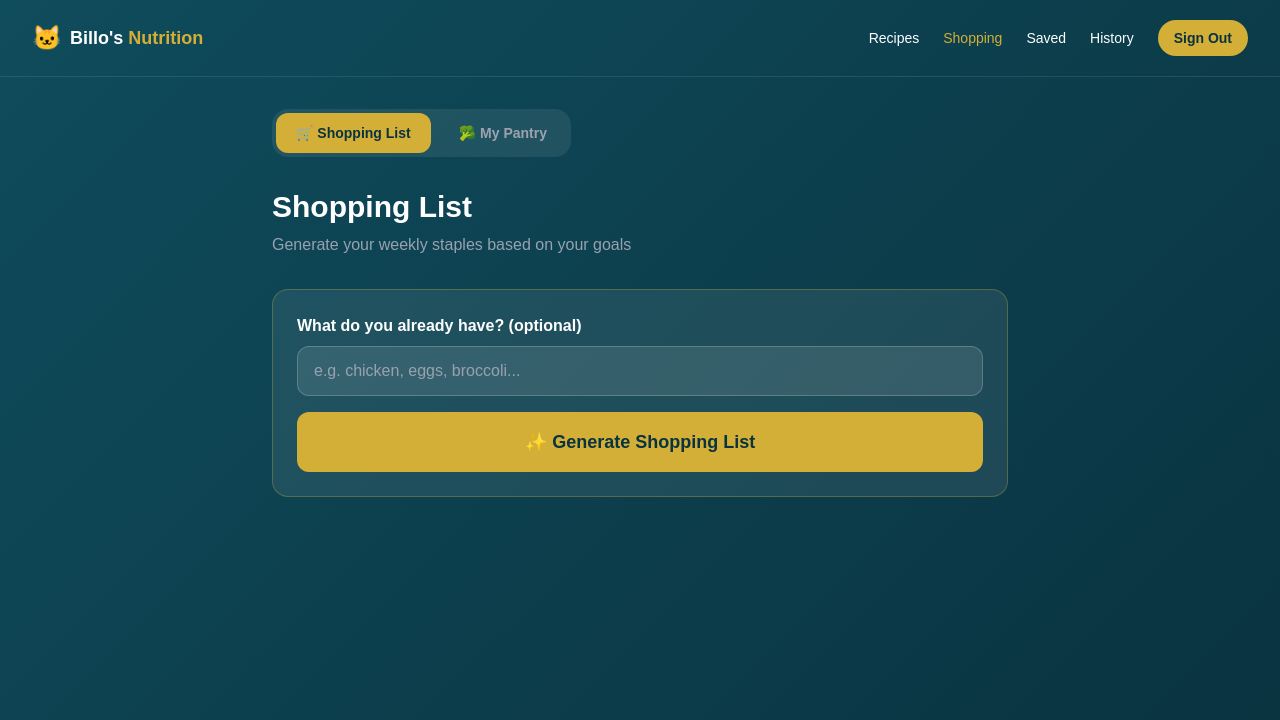
ShoppingPage — Shopping tab › toggles a shopping item as checked
Click the button "✨ Generate Shopping List".
click(640, 442)  # box x1=297 y1=412 x2=983 y2=472
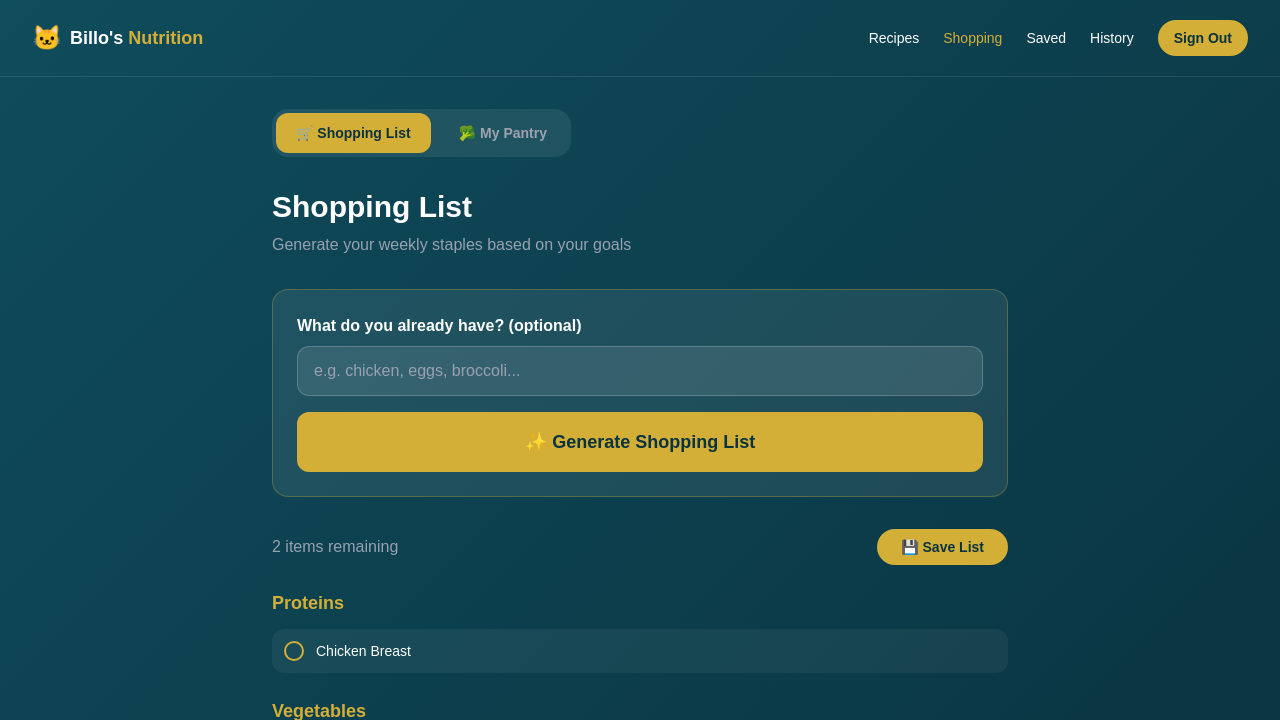
Result: the text "Chicken Breast" is shown at x1=316 y1=641 x2=411 y2=661
Click the text "Chicken Breast".
click(640, 651)  # box x1=272 y1=629 x2=1008 y2=673
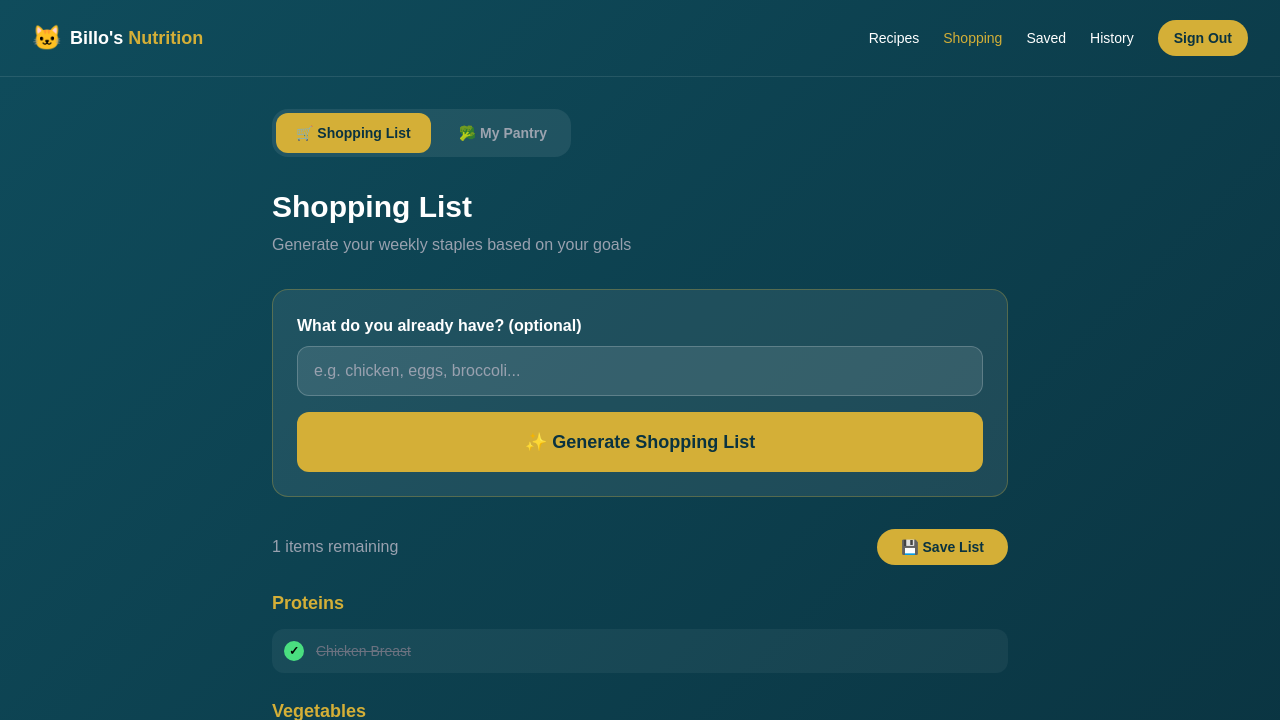
Result: the text "1 items remaining" is shown at x1=272 y1=535 x2=398 y2=559
